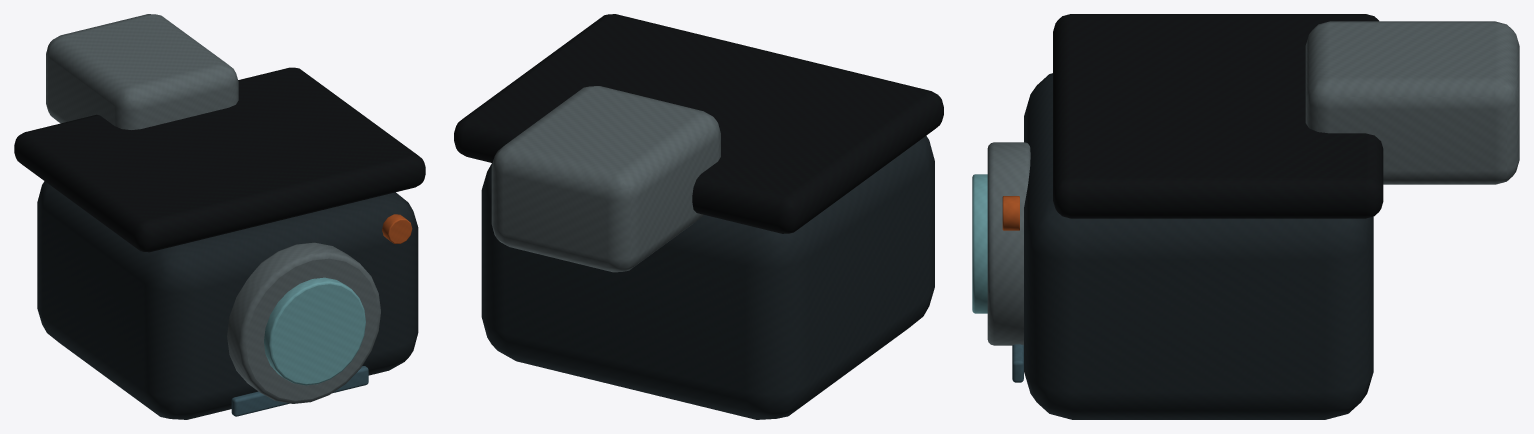
The model's file is SecurityCamera.fbx.
3 renders of one model, left to right at view 1: azimuth 30°, elevation 25°; view 2: azimuth 150°, elevation 25°; view 3: azimuth 270°, elevation 25°, orthographic. The views are drawn at different scales.
Parts seen in each view (by area): view 1: SecurityCamera_Mesh; view 2: SecurityCamera_Mesh; view 3: SecurityCamera_Mesh.
Part boxes in pixels (x1=…): SecurityCamera_Mesh: x1=14, y1=14, x2=425, y2=419; SecurityCamera_Mesh: x1=454, y1=14, x2=943, y2=419; SecurityCamera_Mesh: x1=972, y1=14, x2=1519, y2=419.
Bounding box in the file's own units: 43 × 34.5 × 56.3.
